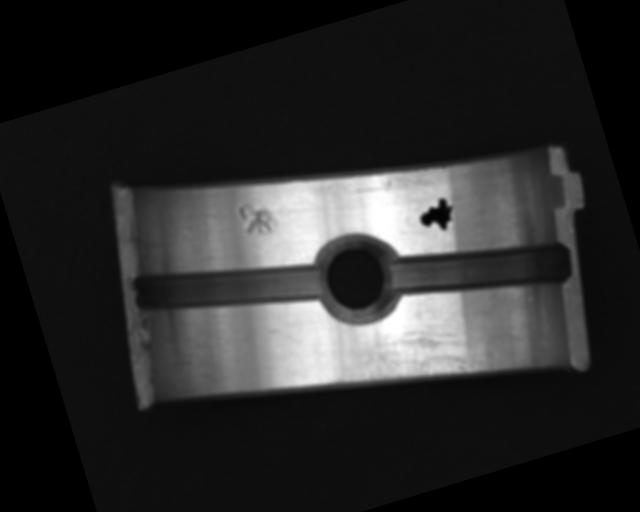blot: (414, 194, 461, 237)
bruise: (235, 195, 280, 240)
gap: (129, 225, 328, 351), (383, 212, 577, 330)
hole: (306, 228, 411, 334)
scratch: (325, 299, 504, 417)
